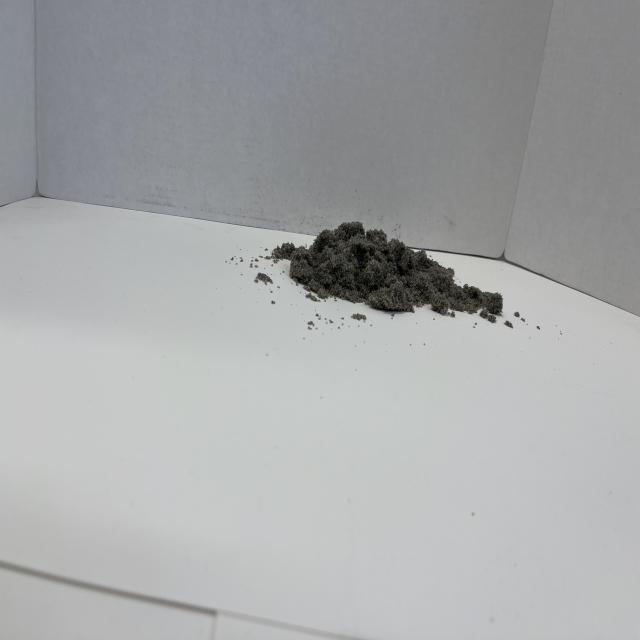sand: (290, 210, 488, 324)
